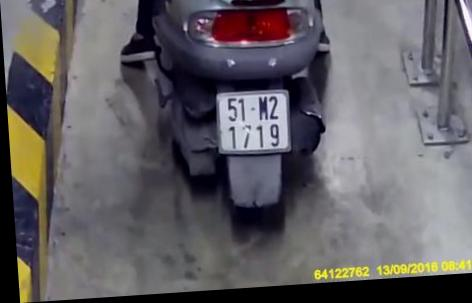License_Plate: (207, 82, 299, 162)
